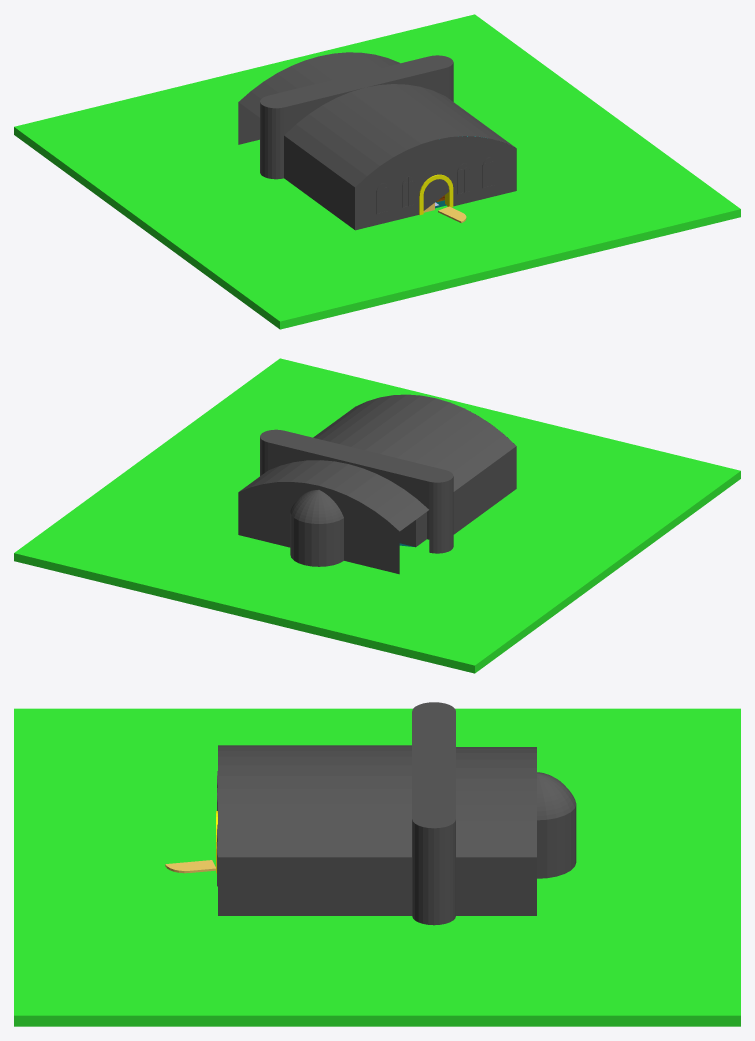
3 renders of one model, top to bottom at view 1: azimuth 30°, elevation 25°; view 2: azimuth 150°, elevation 25°; view 3: azimuth 270°, elevation 25°, orthographic. The views are drawn at different scales.
Parts seen in each view (by area): view 1: Terreno, Muros; view 2: Terreno, Muros; view 3: Terreno, Muros.
Part boxes in pixels (<box>): Terreno: <box>14,14,740,329</box>; Muros: <box>238,52,516,230</box>; Terreno: <box>14,358,740,673</box>; Muros: <box>238,394,516,574</box>; Terreno: <box>14,708,740,1026</box>; Muros: <box>217,702,576,925</box>.
Size of the model in its own units: 120 by 19.65 by 120.
